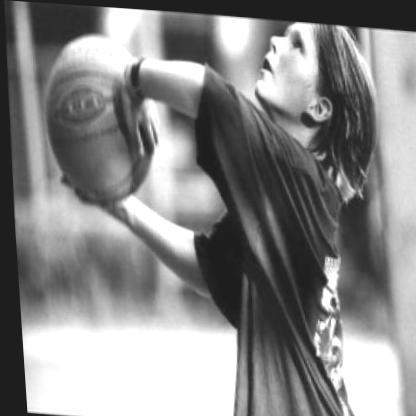basketball: (35, 23, 161, 209)
